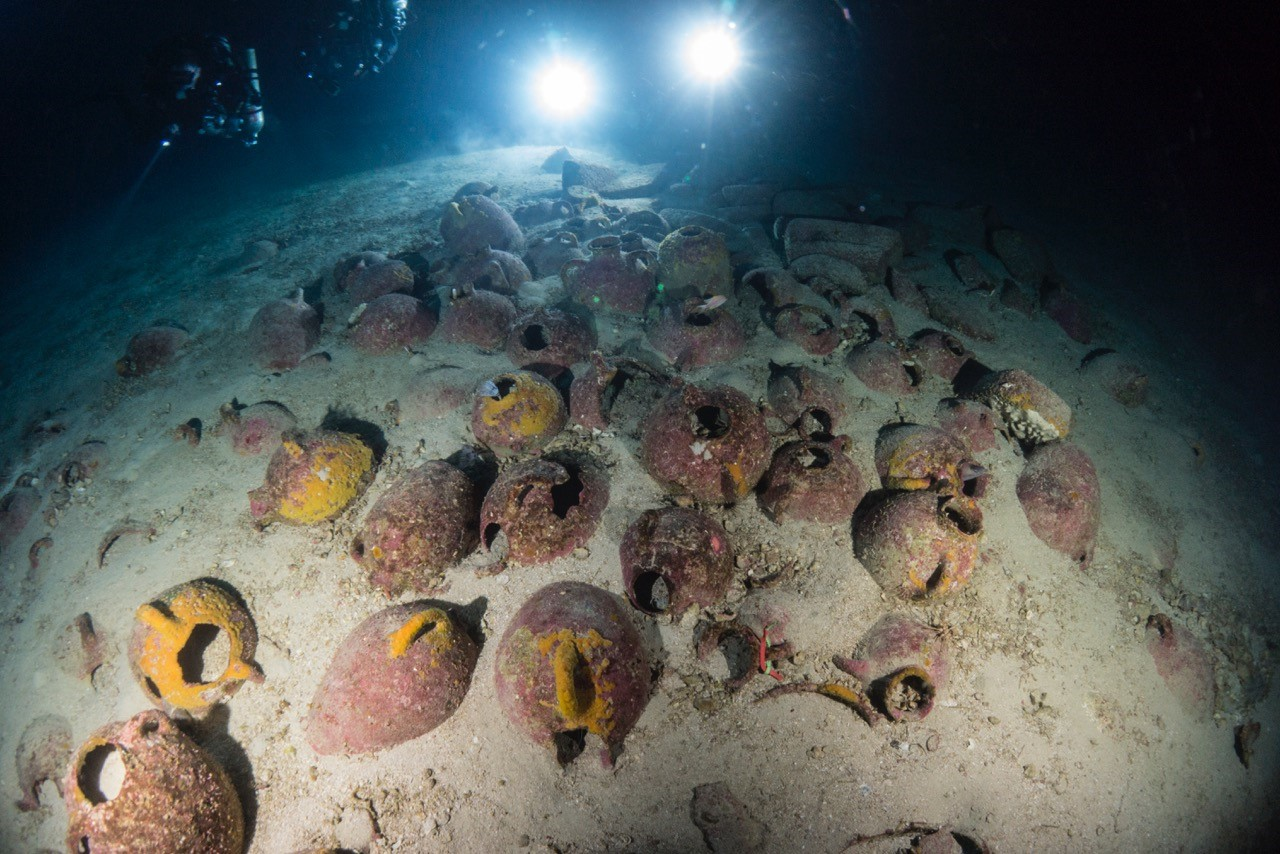amphora: (283, 597, 486, 766), (492, 569, 657, 773), (54, 707, 262, 854), (120, 576, 288, 717), (836, 600, 975, 737), (349, 459, 483, 592), (690, 565, 831, 691), (856, 476, 989, 604), (1014, 430, 1122, 584), (646, 380, 770, 514), (618, 491, 735, 627), (1134, 602, 1236, 741), (249, 422, 380, 524), (472, 451, 601, 550), (871, 423, 997, 511), (761, 438, 874, 532), (467, 367, 580, 457), (240, 291, 326, 379), (10, 703, 77, 815), (341, 288, 445, 359), (646, 298, 752, 367), (564, 235, 653, 311), (568, 346, 646, 432), (774, 360, 865, 432), (495, 302, 591, 370), (444, 189, 527, 265), (206, 397, 300, 462), (657, 224, 734, 303), (394, 359, 489, 422), (55, 611, 122, 696), (444, 279, 519, 353), (449, 238, 539, 298), (116, 317, 202, 379), (904, 323, 982, 386), (938, 393, 1009, 460), (339, 253, 427, 306), (854, 339, 921, 402), (778, 301, 846, 361), (48, 439, 126, 489), (524, 223, 588, 275), (1, 481, 45, 537), (564, 212, 631, 241), (520, 192, 571, 229)
